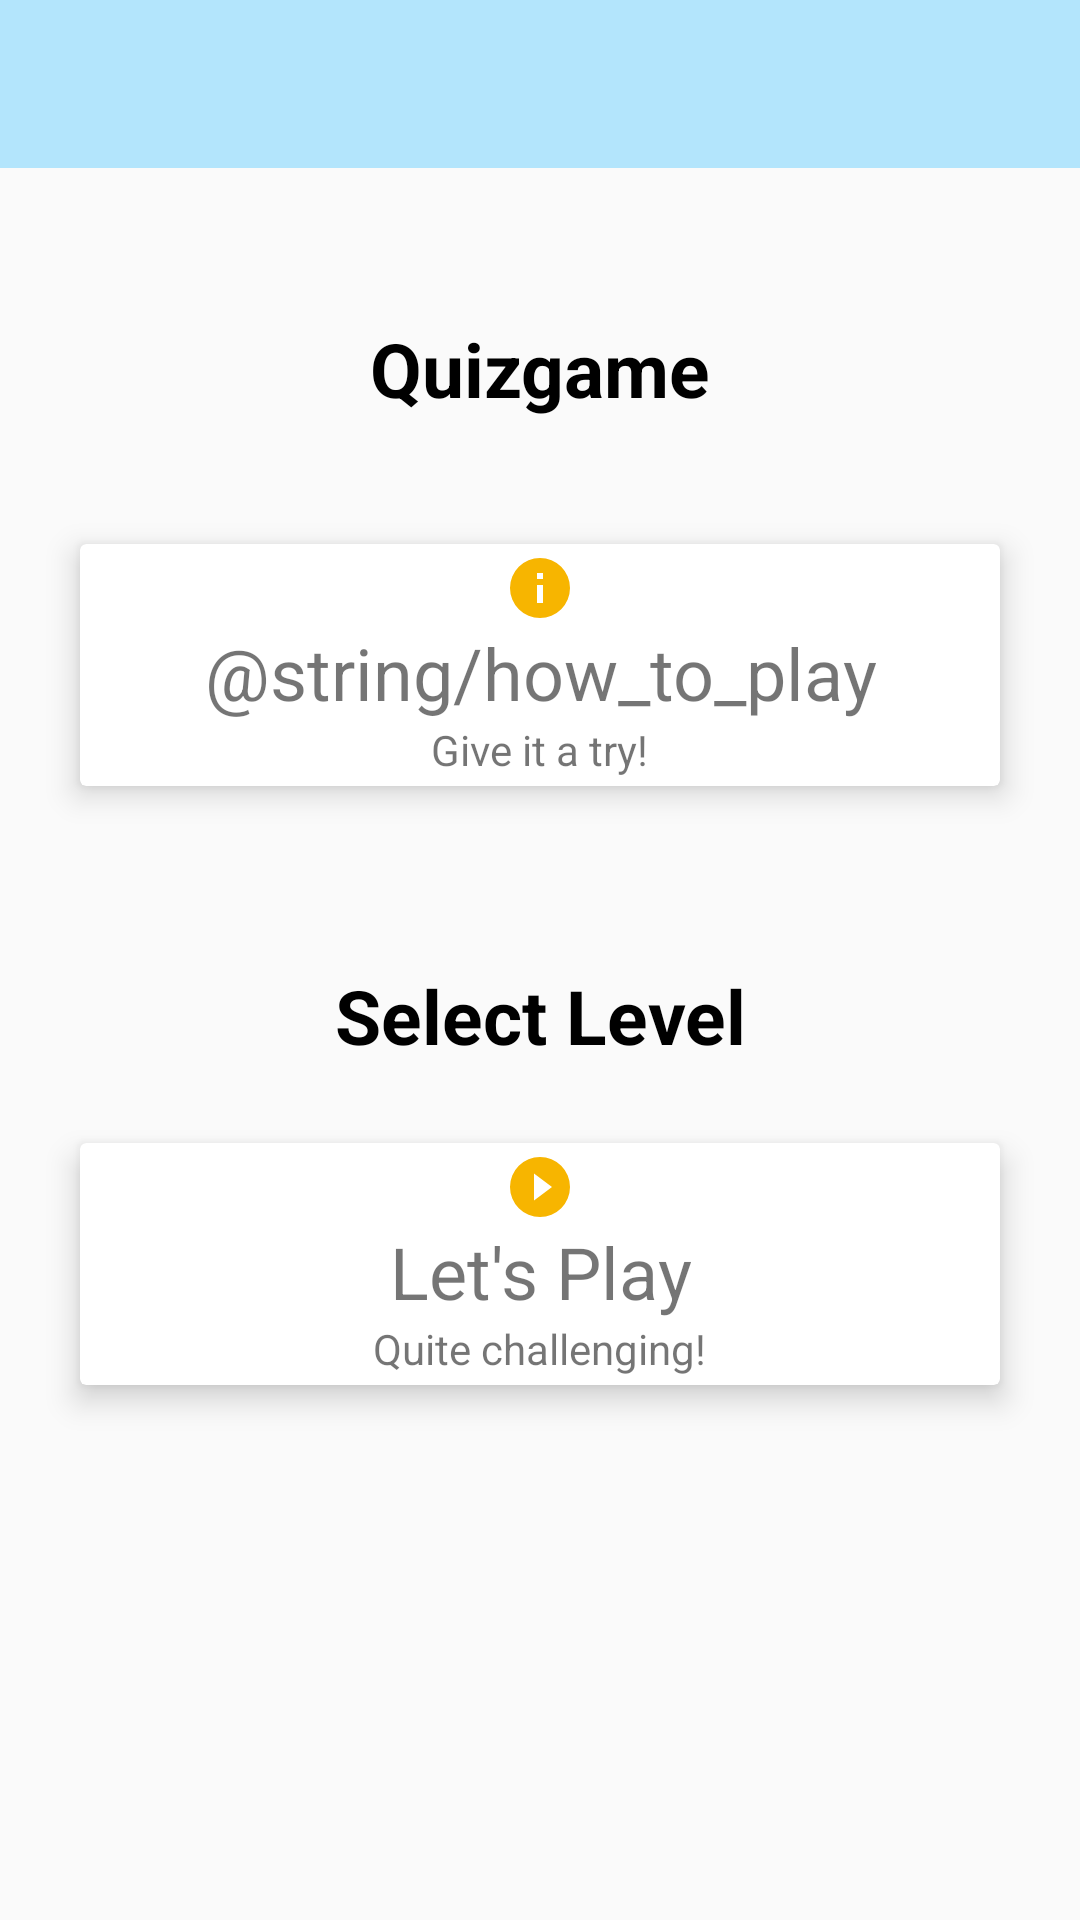

Named icons in this screenshot (1080x1920) and their bounding boxes, (x1, y1, x2, y2):
information: (510, 558, 570, 618)
play circle: (510, 1157, 570, 1217)
